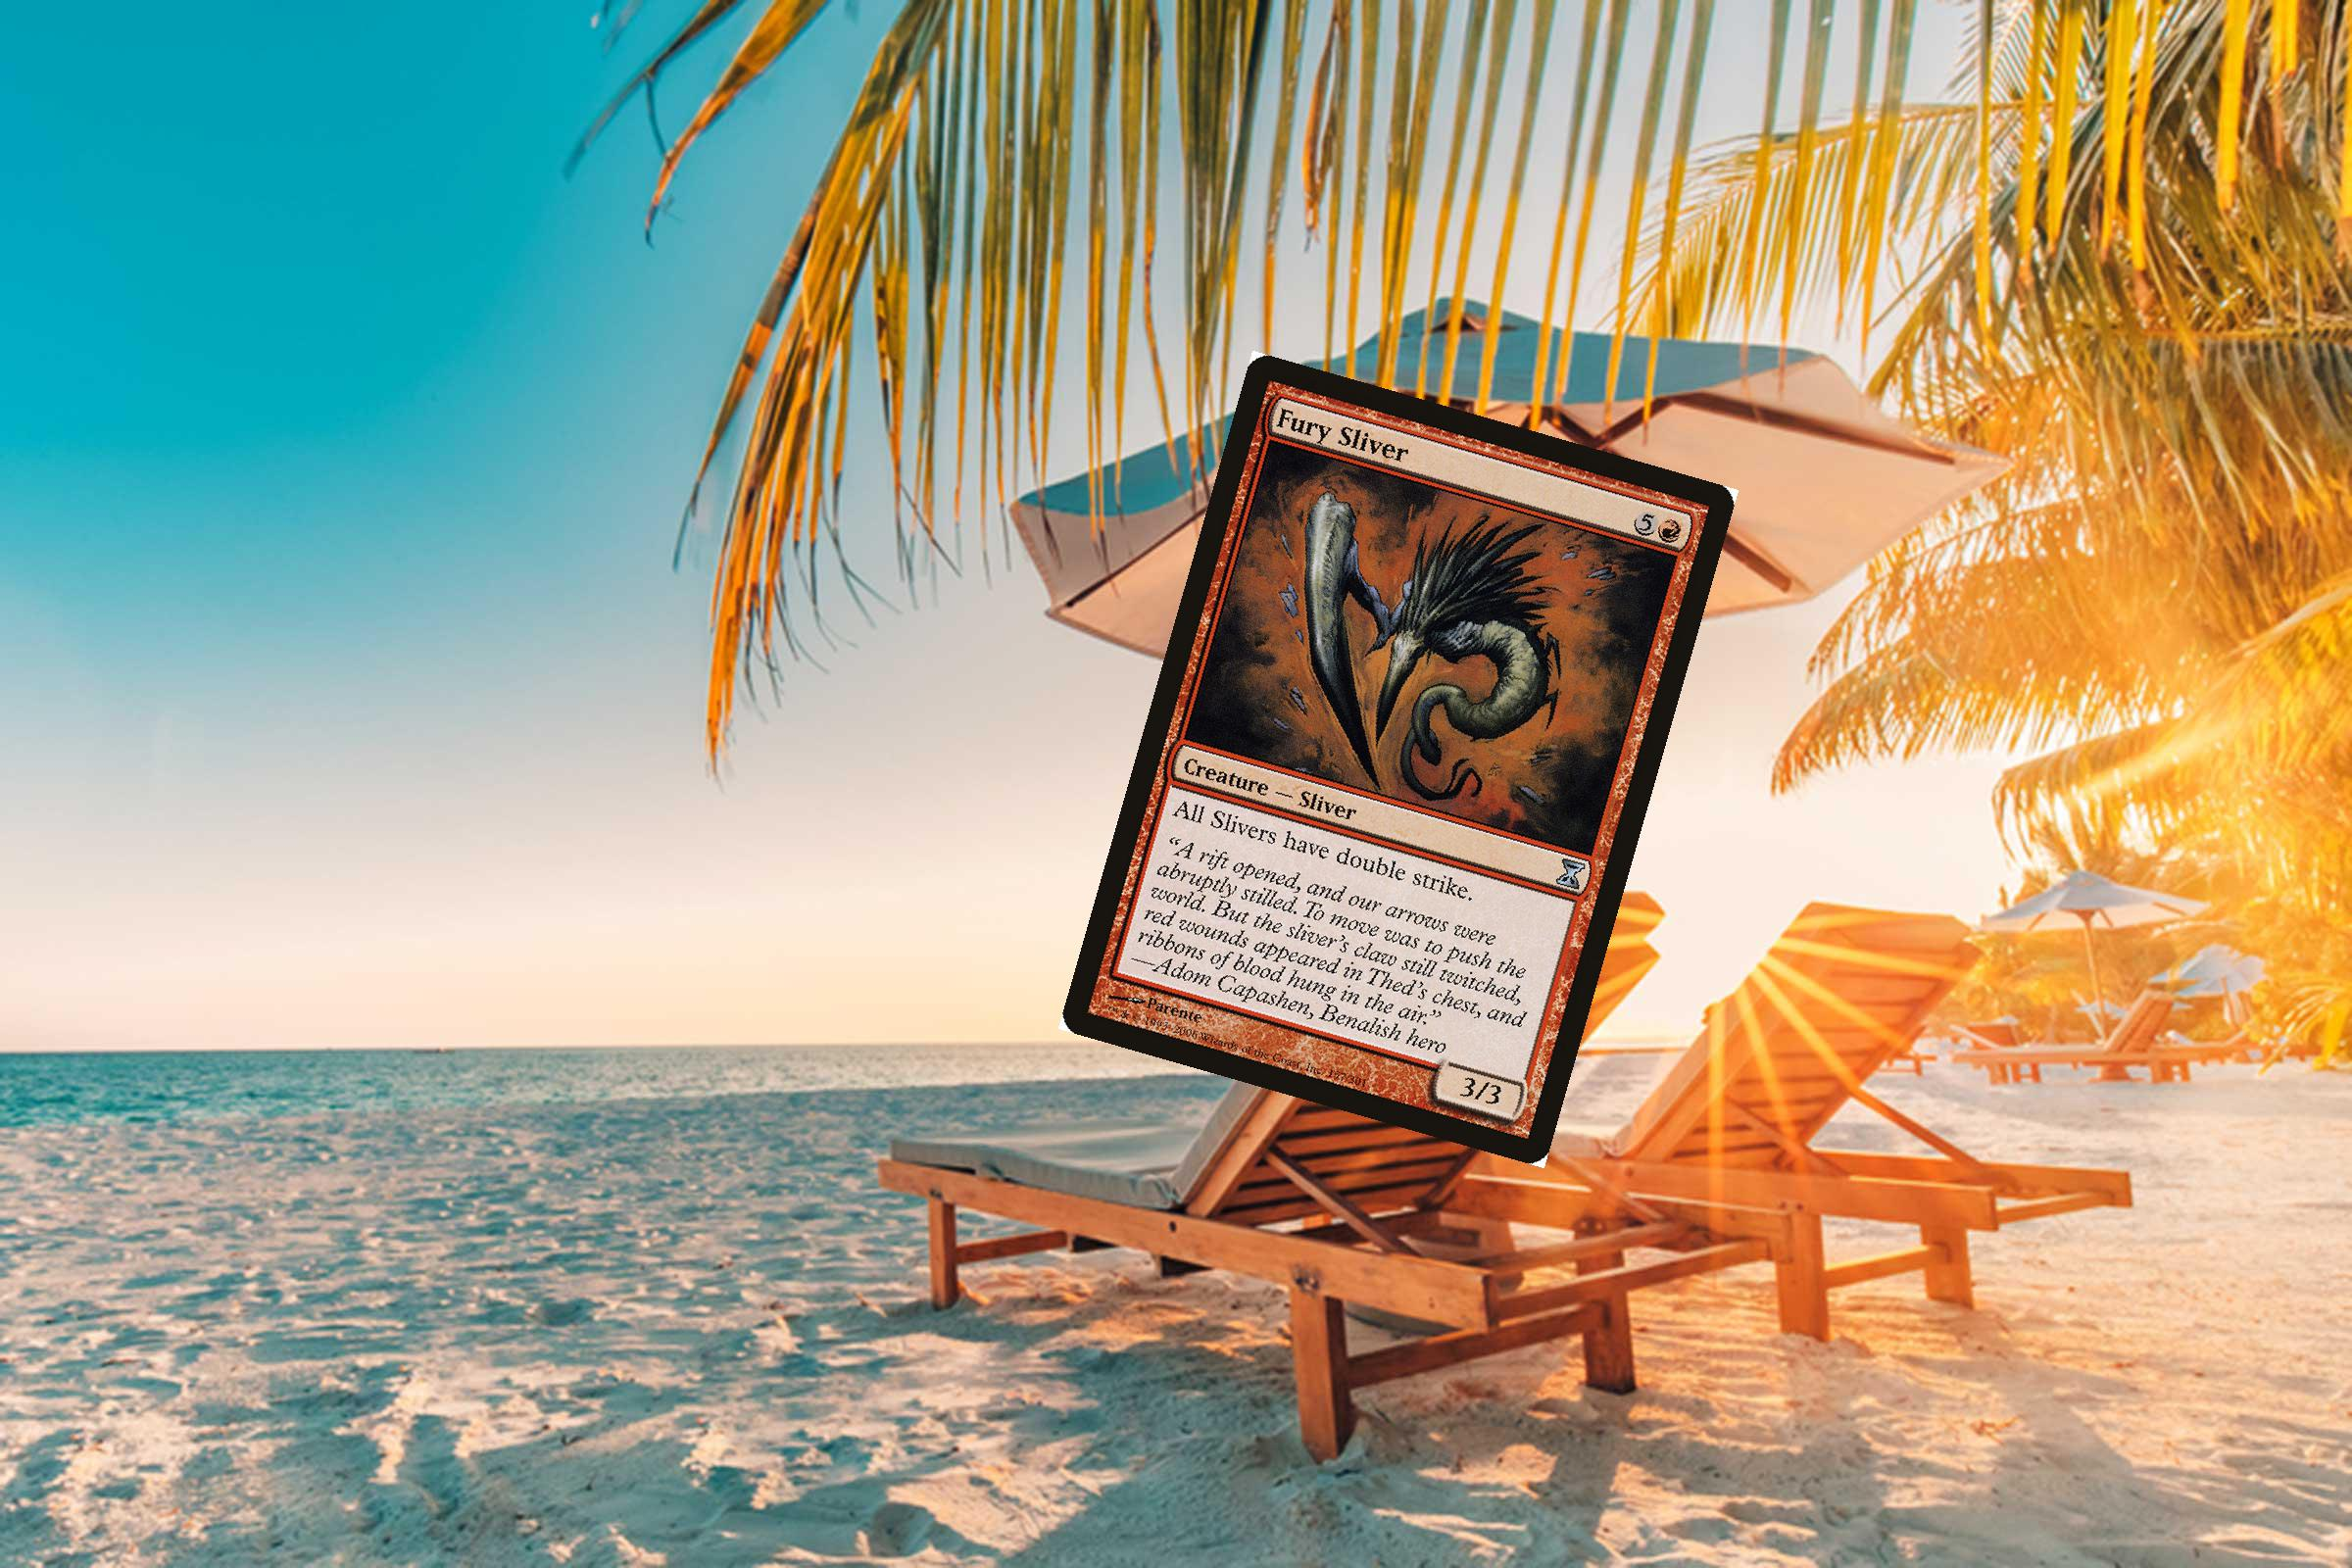mtgCard: (1057, 350, 1739, 1169)
